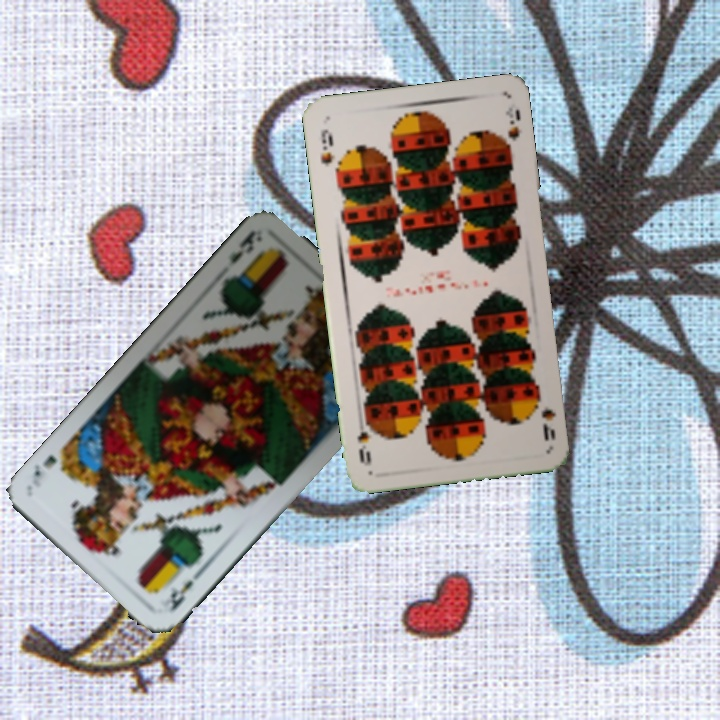EK: (166, 565, 206, 614), (225, 226, 258, 266)
S9: (530, 387, 558, 444), (317, 125, 337, 168)
